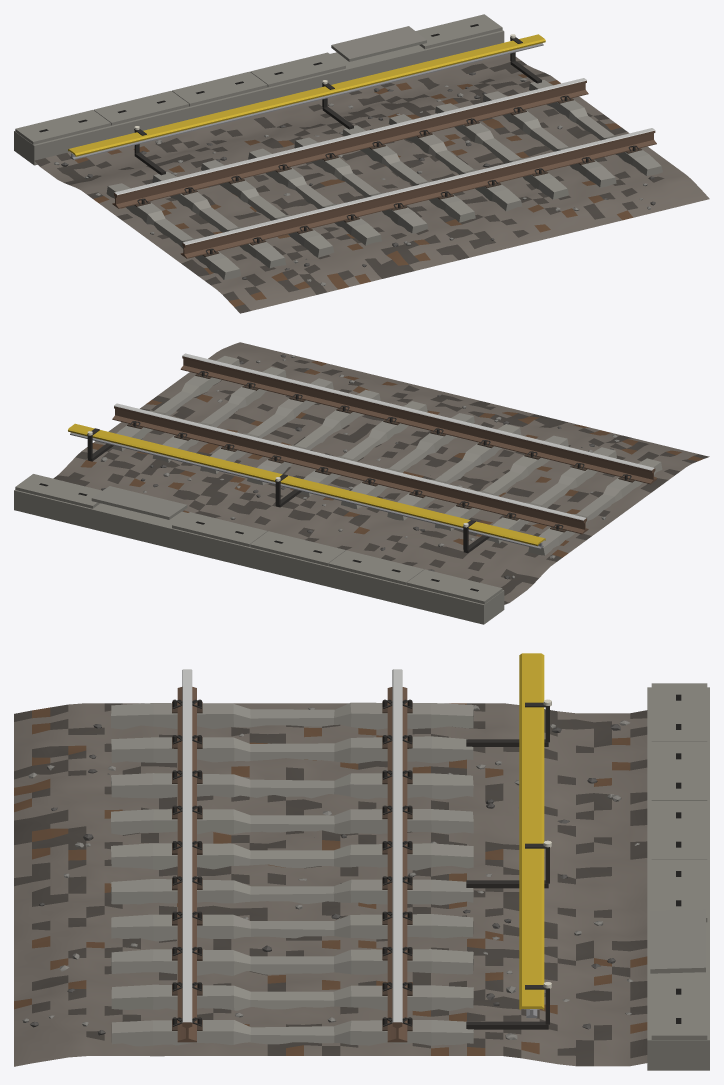
Rendered from track_metro.glb.
The picture shows the model from 3 angles, top to bottom: view 1: azimuth 30°, elevation 25°; view 2: azimuth 150°, elevation 25°; view 3: azimuth 270°, elevation 25°; orthographic projection. The views are drawn at different scales.
Visible parts, largest first — view 1: gleis_schotter, gleis_schiene1, gleis_schiene-1, gleis_trog, gleis_abdeckung, gleis_schwelle0, gleis_schwelle1, gleis_schwelle2, gleis_schwelle7, gleis_schwelle6, gleis_schwelle3, gleis_schwelle8 (+10 smaller); view 2: gleis_schotter, gleis_trog, gleis_schiene-1, gleis_schiene1, gleis_abdeckung, gleis_schwelle0, gleis_deckel0, gleis_deckel3, gleis_deckel2, gleis_deckel1, gleis_deckel4, gleis_schwelle3 (+10 smaller); view 3: gleis_schotter, gleis_abdeckung, gleis_schiene1, gleis_schwelle0, gleis_schwelle1, gleis_schwelle9, gleis_schwelle7, gleis_schwelle8, gleis_schiene-1, gleis_schwelle3, gleis_schwelle2, gleis_schwelle4 (+10 smaller).
Part boxes in pixels (x1=…): gleis_schotter: x1=34, y1=53, x2=709, y2=313; gleis_schiene1: x1=112, y1=78, x2=588, y2=208; gleis_schiene-1: x1=180, y1=128, x2=656, y2=258; gleis_trog: x1=14, y1=30, x2=504, y2=165; gleis_abdeckung: x1=68, y1=34, x2=545, y2=156; gleis_schwelle0: x1=106, y1=183, x2=240, y2=279; gleis_schwelle1: x1=152, y1=171, x2=286, y2=268; gleis_schwelle2: x1=201, y1=160, x2=334, y2=257; gleis_schwelle7: x1=435, y1=103, x2=568, y2=199; gleis_schwelle6: x1=388, y1=114, x2=522, y2=211; gleis_schwelle3: x1=248, y1=148, x2=381, y2=245; gleis_schwelle8: x1=483, y1=91, x2=616, y2=187; gleis_schotter: x1=53, y1=342, x2=709, y2=604; gleis_trog: x1=14, y1=490, x2=504, y2=624; gleis_schiene-1: x1=180, y1=353, x2=656, y2=484; gleis_schiene1: x1=112, y1=403, x2=588, y2=534; gleis_abdeckung: x1=68, y1=423, x2=545, y2=546; gleis_schwelle0: x1=528, y1=458, x2=662, y2=555; gleis_deckel0: x1=406, y1=569, x2=502, y2=604; gleis_deckel3: x1=172, y1=512, x2=267, y2=546; gleis_deckel2: x1=250, y1=531, x2=345, y2=565; gleis_deckel1: x1=328, y1=550, x2=424, y2=584; gleis_deckel4: x1=91, y1=486, x2=187, y2=519; gleis_schwelle3: x1=387, y1=424, x2=521, y2=520; gleis_schotter: x1=14, y1=703, x2=647, y2=1066; gleis_abdeckung: x1=519, y1=653, x2=544, y2=1010; gleis_schiene1: x1=387, y1=669, x2=407, y2=1042; gleis_schwelle0: x1=111, y1=702, x2=473, y2=729; gleis_schwelle1: x1=111, y1=736, x2=473, y2=763; gleis_schwelle9: x1=111, y1=1020, x2=473, y2=1056; gleis_schwelle7: x1=111, y1=949, x2=473, y2=975; gleis_schwelle8: x1=111, y1=984, x2=473, y2=1011; gleis_schiene-1: x1=177, y1=669, x2=196, y2=1042; gleis_schwelle3: x1=111, y1=809, x2=473, y2=835; gleis_schwelle2: x1=111, y1=773, x2=473, y2=799; gleis_schwelle4: x1=111, y1=843, x2=473, y2=870.
Size of the model in its own units: 6 by 0.55 by 5.
